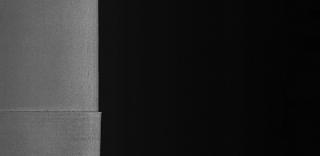welding line: (1, 104, 109, 120)
